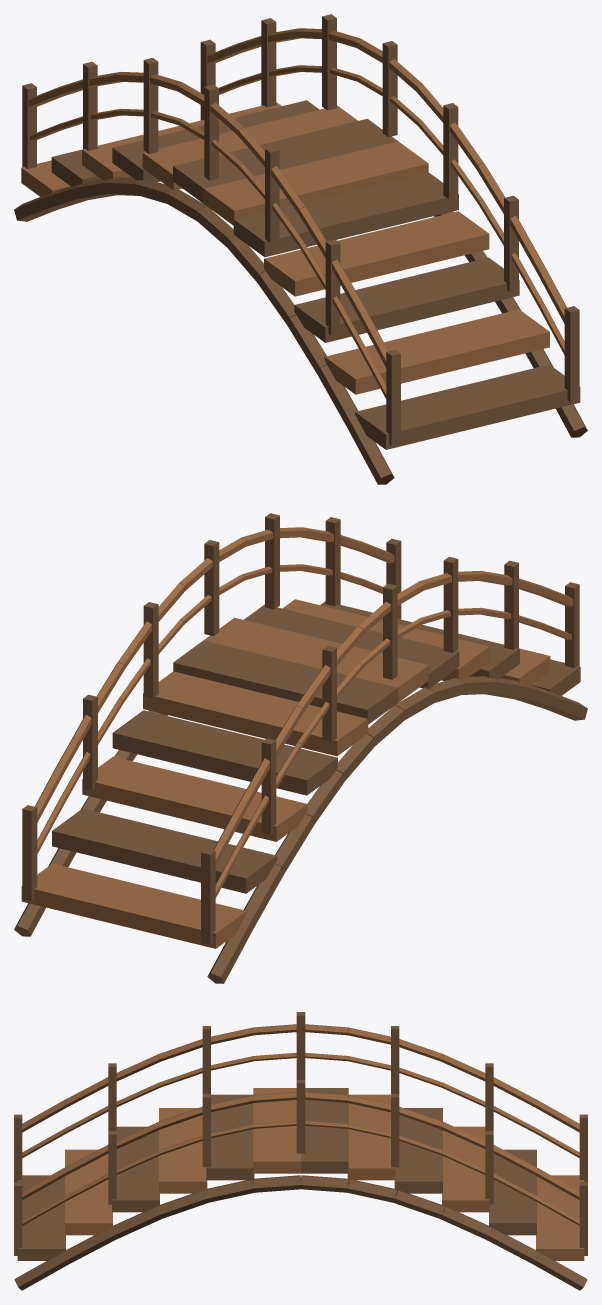
File: xy_isle_bridge.glb
3 views of the same model, one above another, from view 1: azimuth 30°, elevation 25°; view 2: azimuth 150°, elevation 25°; view 3: azimuth 270°, elevation 25° (orthographic). The views are drawn at different scales.
Parts seen in each view (by area): view 1: Bridge; view 2: Bridge; view 3: Bridge.
Part boxes in pixels (box(x1,y1,x2,y2)): Bridge: box(14, 14, 587, 484); Bridge: box(14, 513, 587, 983); Bridge: box(14, 1012, 587, 1290).
Size of the model in its own units: 1.98 by 2.4 by 6.09.
